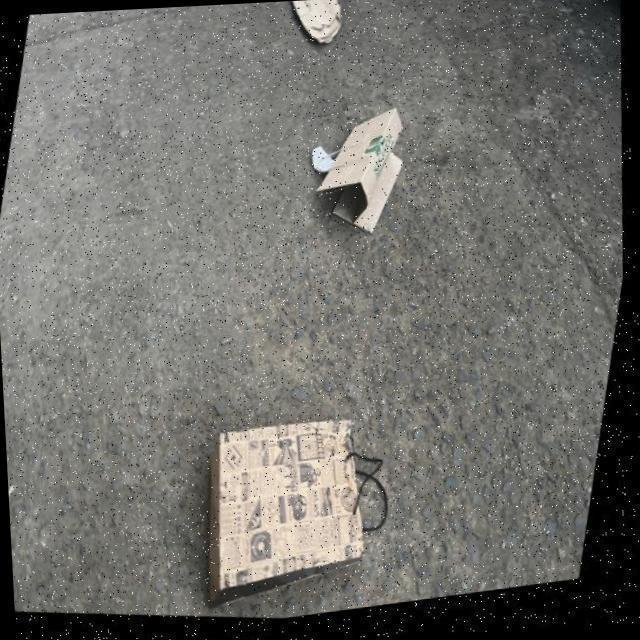Paper_Bag: (182, 391, 422, 634), (290, 100, 420, 260), (281, 0, 354, 62)
